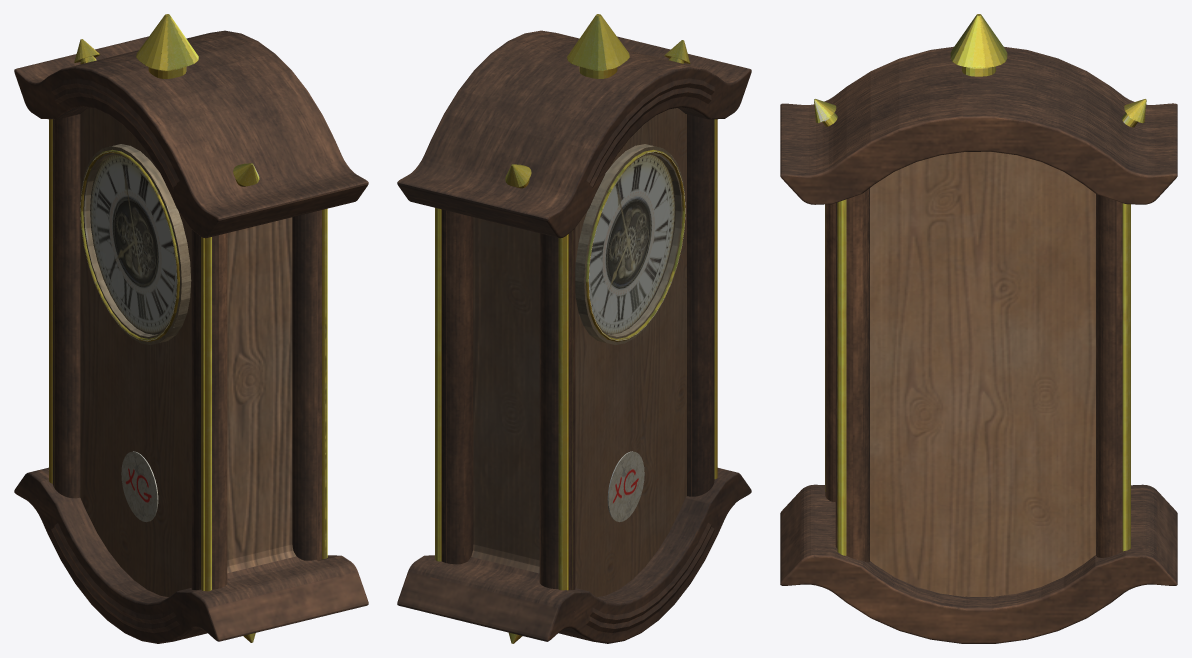
File: clock.fbx
3 views of the same model, side by side, from view 1: azimuth 30°, elevation 25°; view 2: azimuth 150°, elevation 25°; view 3: azimuth 270°, elevation 25° (orthographic). The views are drawn at different scales.
Parts seen in each view (by area): view 1: Cube.001; view 2: Cube.001; view 3: Cube.001.
Boxes of the visible parts, box(x1,y1,x2,y2) form: Cube.001: box(14, 14, 368, 643); Cube.001: box(397, 14, 751, 643); Cube.001: box(780, 14, 1177, 643).
Size of the model in its own units: 133 by 498 by 308.
